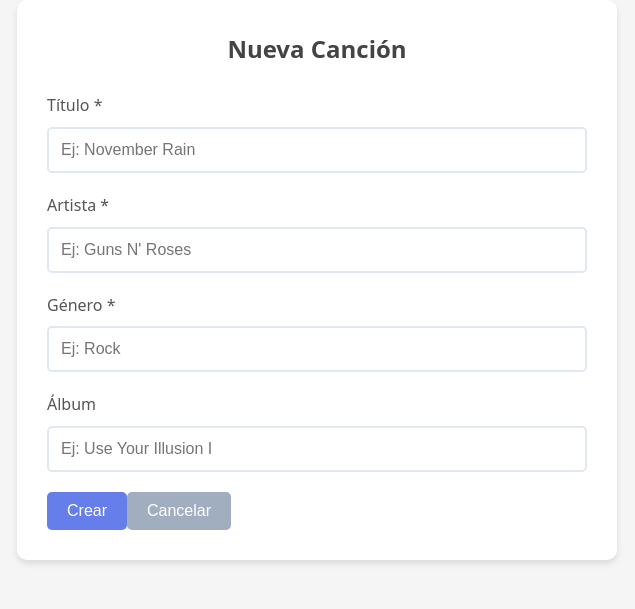
Scenario: SongForm › muestra los errores por campo que devuelve el servidor
Type "Bailando" into the field labelled "Título *" at {"x": 317, "y": 150}, box [47,127,587,173]
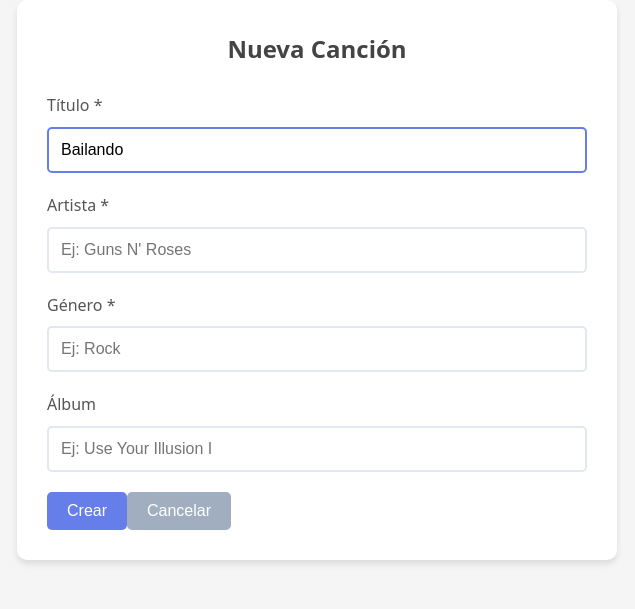
Type "Enrique" into the field labelled "Artista *" at {"x": 317, "y": 250}, box [47,227,587,273]
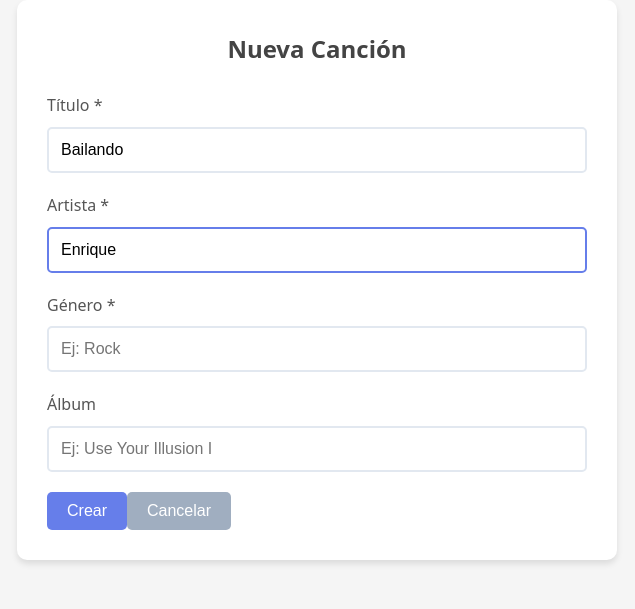
Type "Pop" into the field labelled "Género *" at {"x": 317, "y": 349}, box [47,326,587,372]
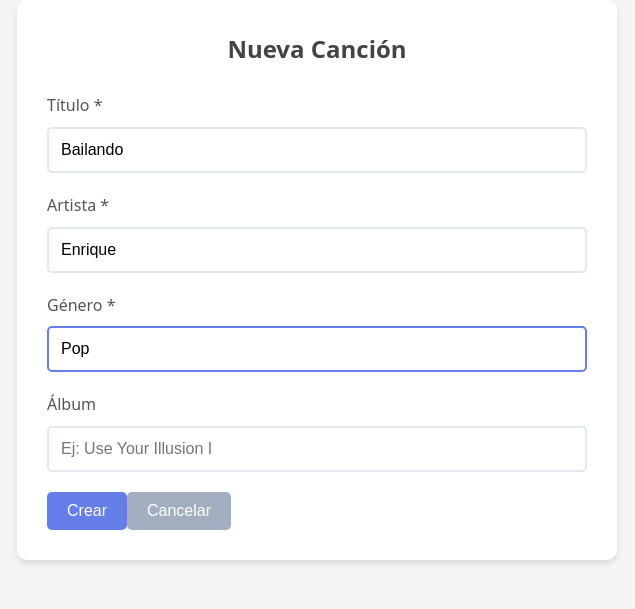
Click the button "Crear" at {"x": 87, "y": 511}, box [47,492,127,530]
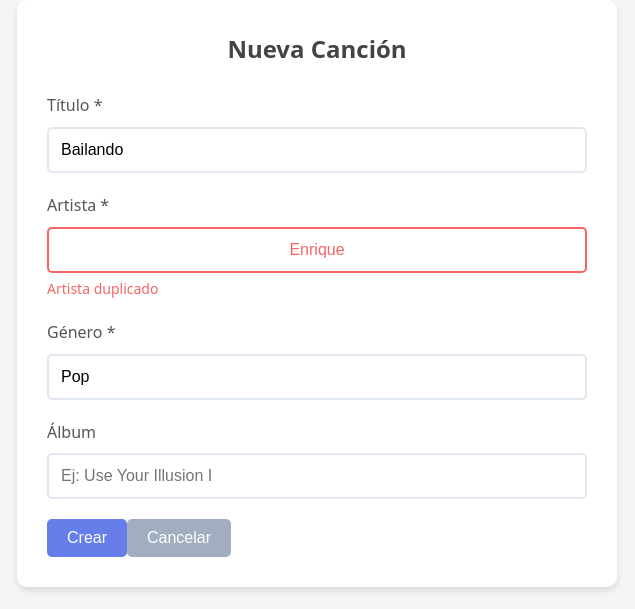
expect the text "Artista duplicado" is shown: met, box [47,279,158,298]
